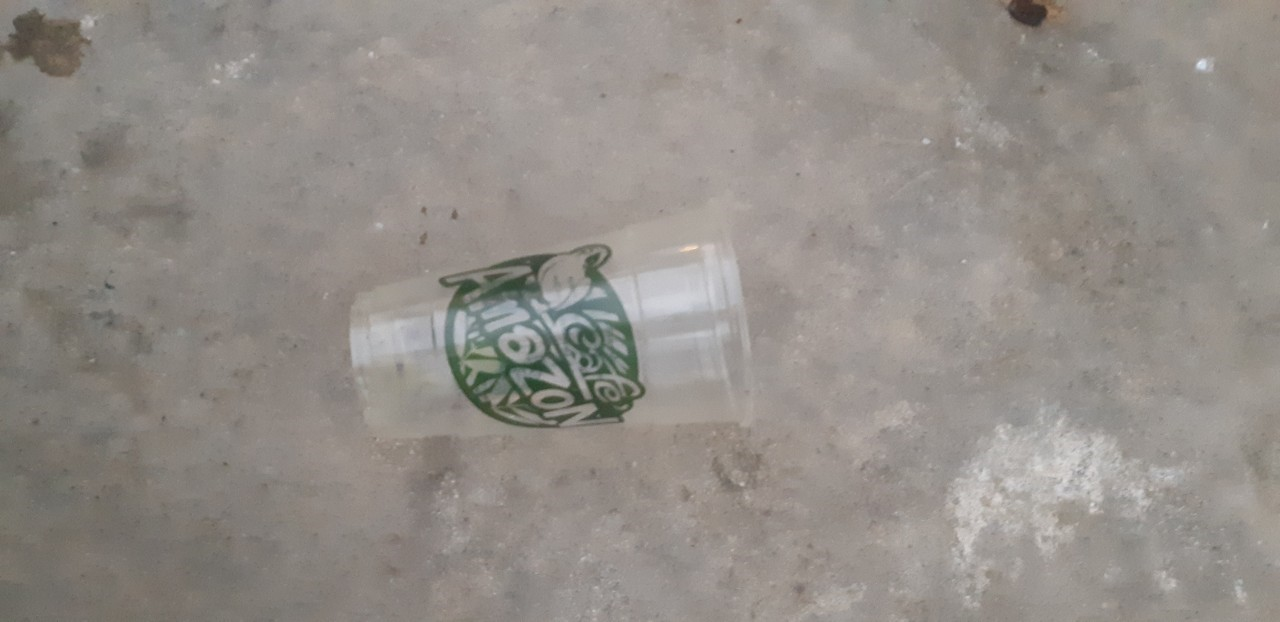PlasticCup: (348, 203, 762, 448)
